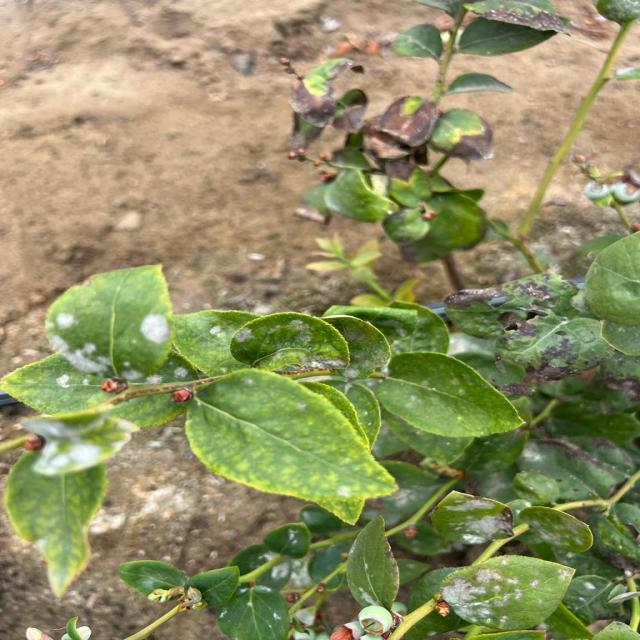Hojas con oidiosis: (50, 266, 177, 381), (15, 401, 140, 472), (447, 564, 559, 630), (308, 347, 384, 388)
